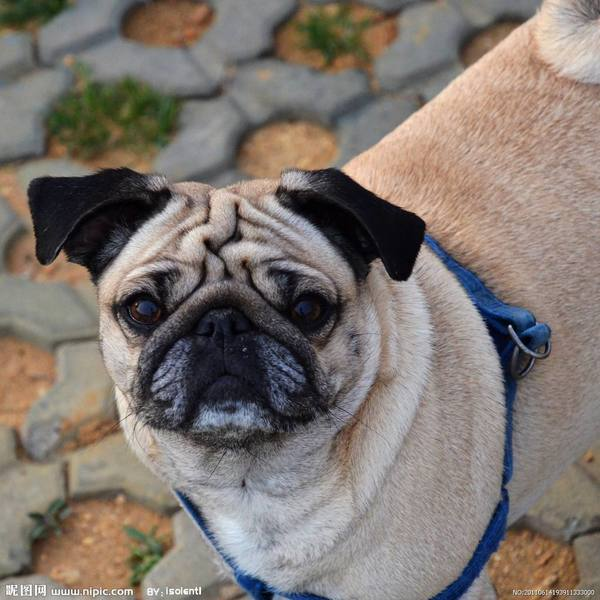dog: (22, 143, 474, 498)
